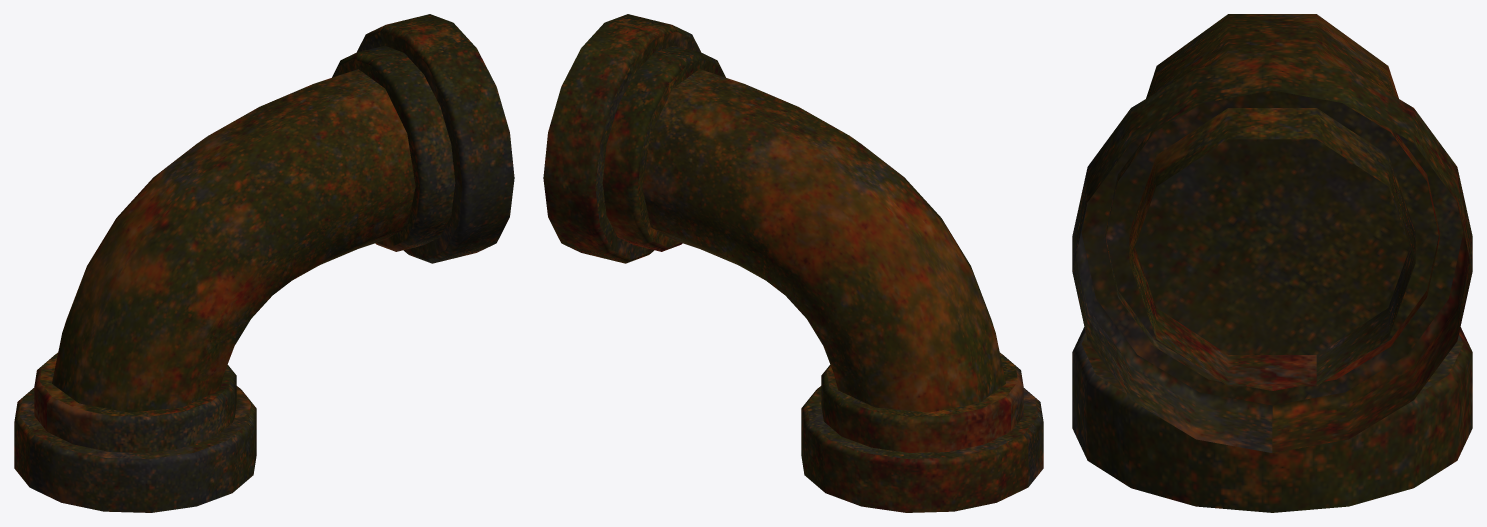
File: SM_Truba_Piedestal.fbx
The picture shows the model from 3 angles, left to right: view 1: azimuth 30°, elevation 25°; view 2: azimuth 150°, elevation 25°; view 3: azimuth 270°, elevation 25°; orthographic projection. The views are drawn at different scales.
Parts seen in each view (by area): view 1: SM_Truba_Piedestal; view 2: SM_Truba_Piedestal; view 3: SM_Truba_Piedestal.
Boxes of the visible parts, bbox=[...] form: SM_Truba_Piedestal: bbox=[14, 14, 514, 512]; SM_Truba_Piedestal: bbox=[543, 14, 1043, 512]; SM_Truba_Piedestal: bbox=[1072, 14, 1472, 512].
Bounding box in the file's own units: 0.5595 × 0.4561 × 0.2795.
